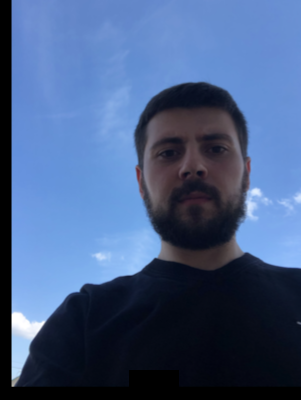without_mask: (143, 127, 243, 250)
